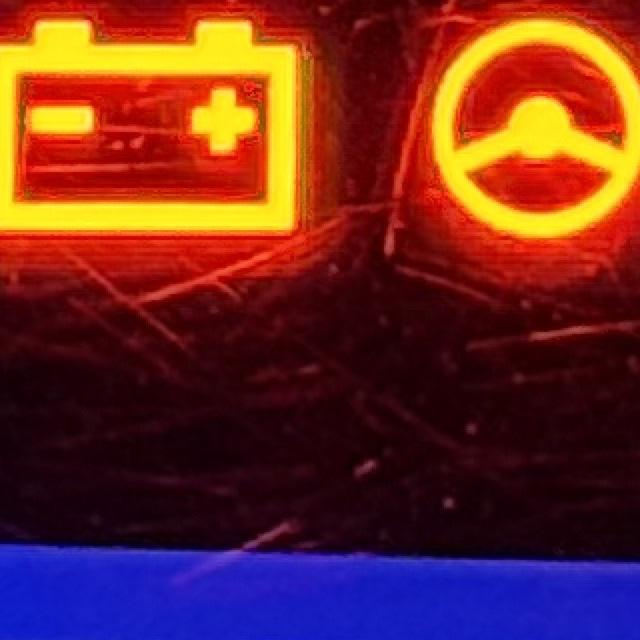Battery Issue: (1, 9, 314, 246)
Steering Wheel Locked: (432, 11, 640, 252)
